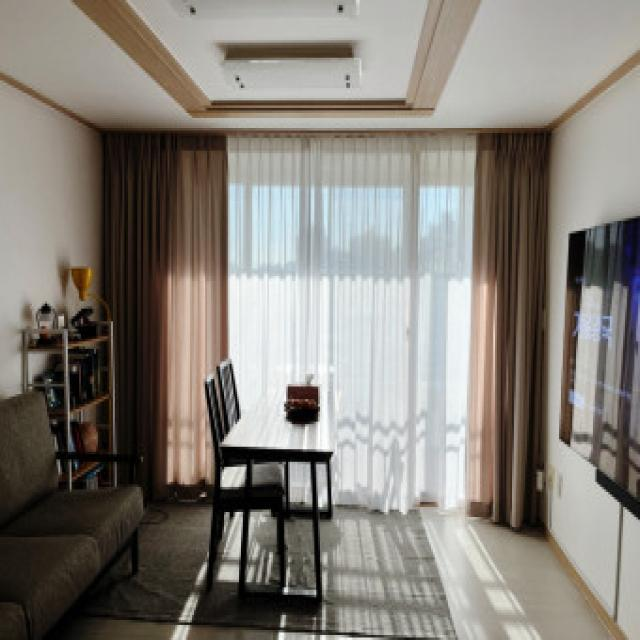Chair: (182, 370, 290, 590)
Sofa: (3, 390, 143, 628)
Table: (223, 398, 332, 618)
tv: (557, 217, 640, 488)
window: (103, 142, 527, 398)
